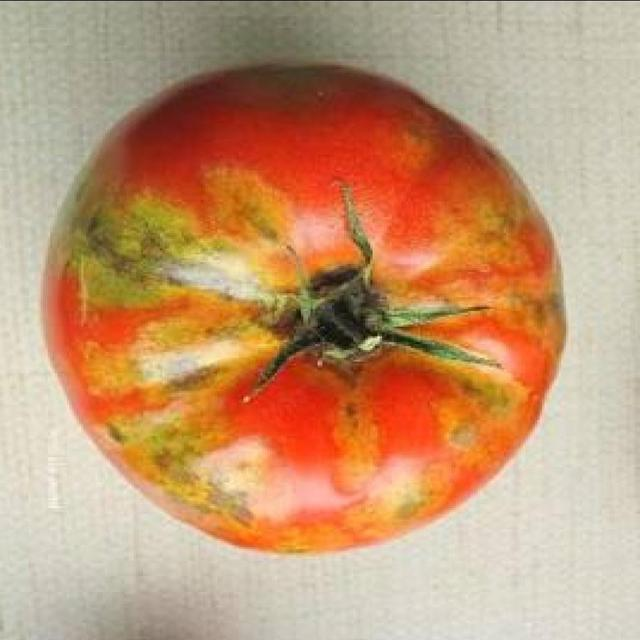Spotted wilt Virus Fruit: (1, 116, 111, 459)
